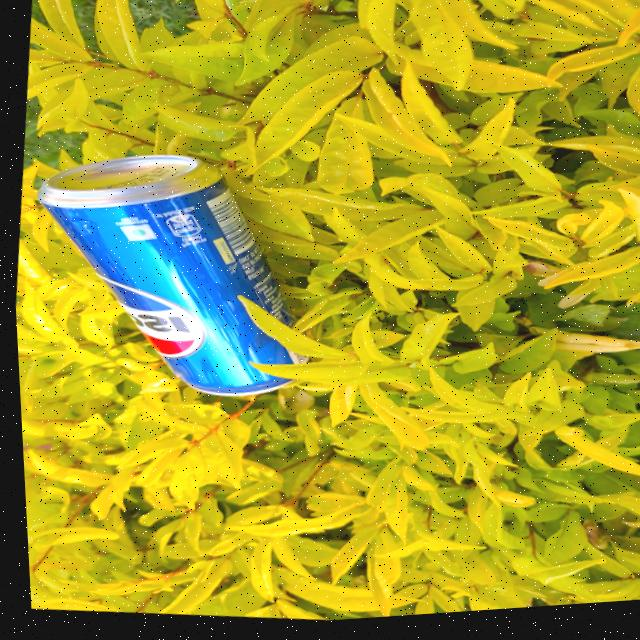Pepsi: (7, 146, 311, 423)
